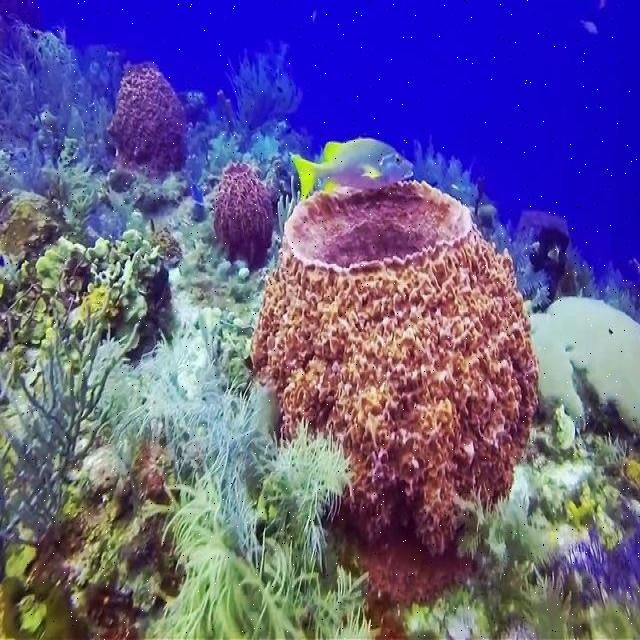fish: (291, 138, 415, 201)
reefs: (248, 180, 540, 602), (110, 309, 383, 639), (0, 287, 141, 572), (106, 67, 189, 186), (213, 162, 274, 268)
